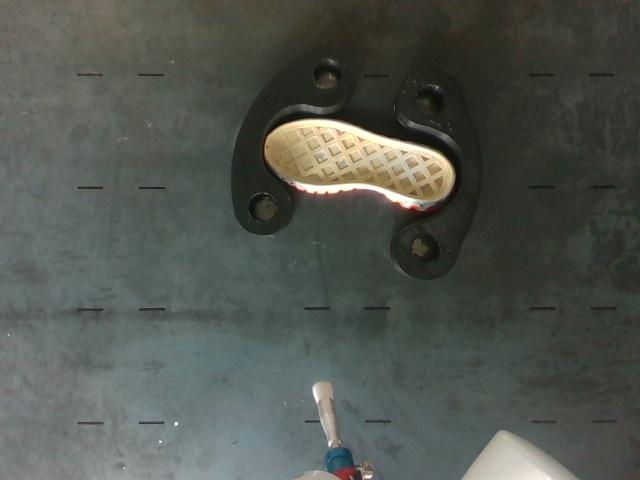shoes: (266, 121, 452, 201)
